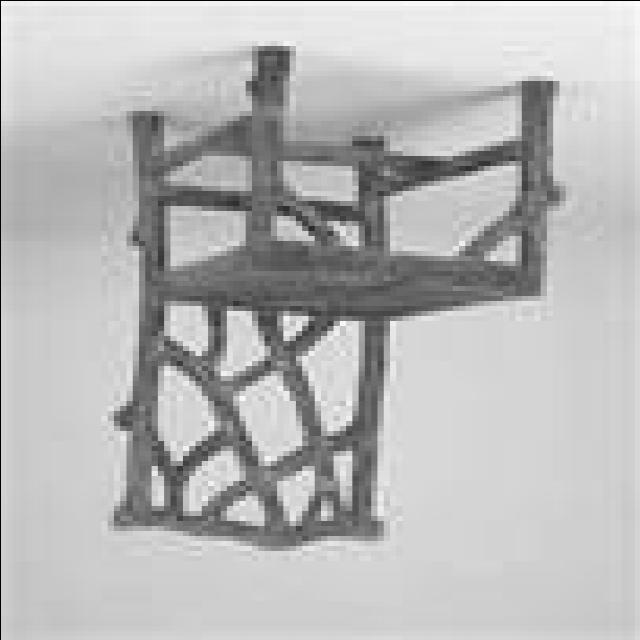chair: (109, 44, 569, 554)
